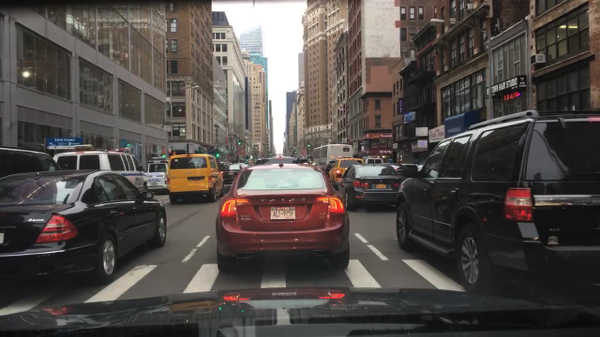car: (394, 109, 599, 297), (0, 170, 166, 284), (214, 161, 350, 272), (51, 144, 147, 195), (166, 143, 223, 202), (335, 166, 403, 209), (0, 147, 62, 179), (142, 155, 170, 193), (328, 157, 364, 184), (372, 163, 403, 185), (223, 162, 249, 181), (256, 154, 302, 160), (400, 165, 422, 176), (362, 157, 382, 167), (324, 159, 337, 173)
person: (386, 153, 392, 164), (413, 158, 419, 165)
traffic light: (305, 140, 311, 149), (214, 152, 220, 160), (237, 137, 241, 147)
traffic sign: (358, 141, 367, 147), (213, 142, 222, 147)
truck: (312, 144, 352, 171)
